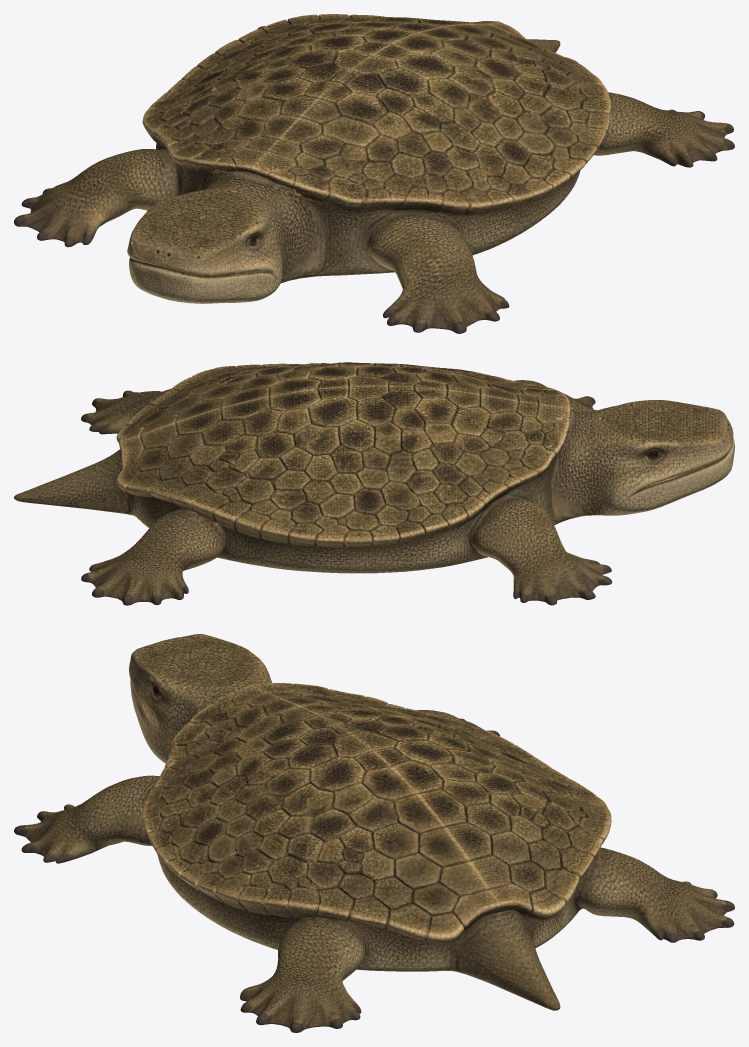
3 renders of one model, top to bottom at view 1: azimuth 30°, elevation 25°; view 2: azimuth 150°, elevation 25°; view 3: azimuth 270°, elevation 25°, orthographic. The views are drawn at different scales.
Parts seen in each view (by area): view 1: Authored orientation; view 2: Authored orientation; view 3: Authored orientation.
Boxes of the visible parts, x1,y1,x2,y2 form: Authored orientation: (14, 14, 734, 333); Authored orientation: (14, 362, 734, 605); Authored orientation: (14, 634, 734, 1032).
Bounding box in the file's own units: 1.02 × 0.1908 × 0.9807.
Materials: 1 (1 with a texture image).
